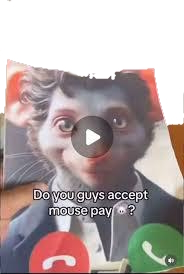mouse-pay: (5, 59, 181, 268)
